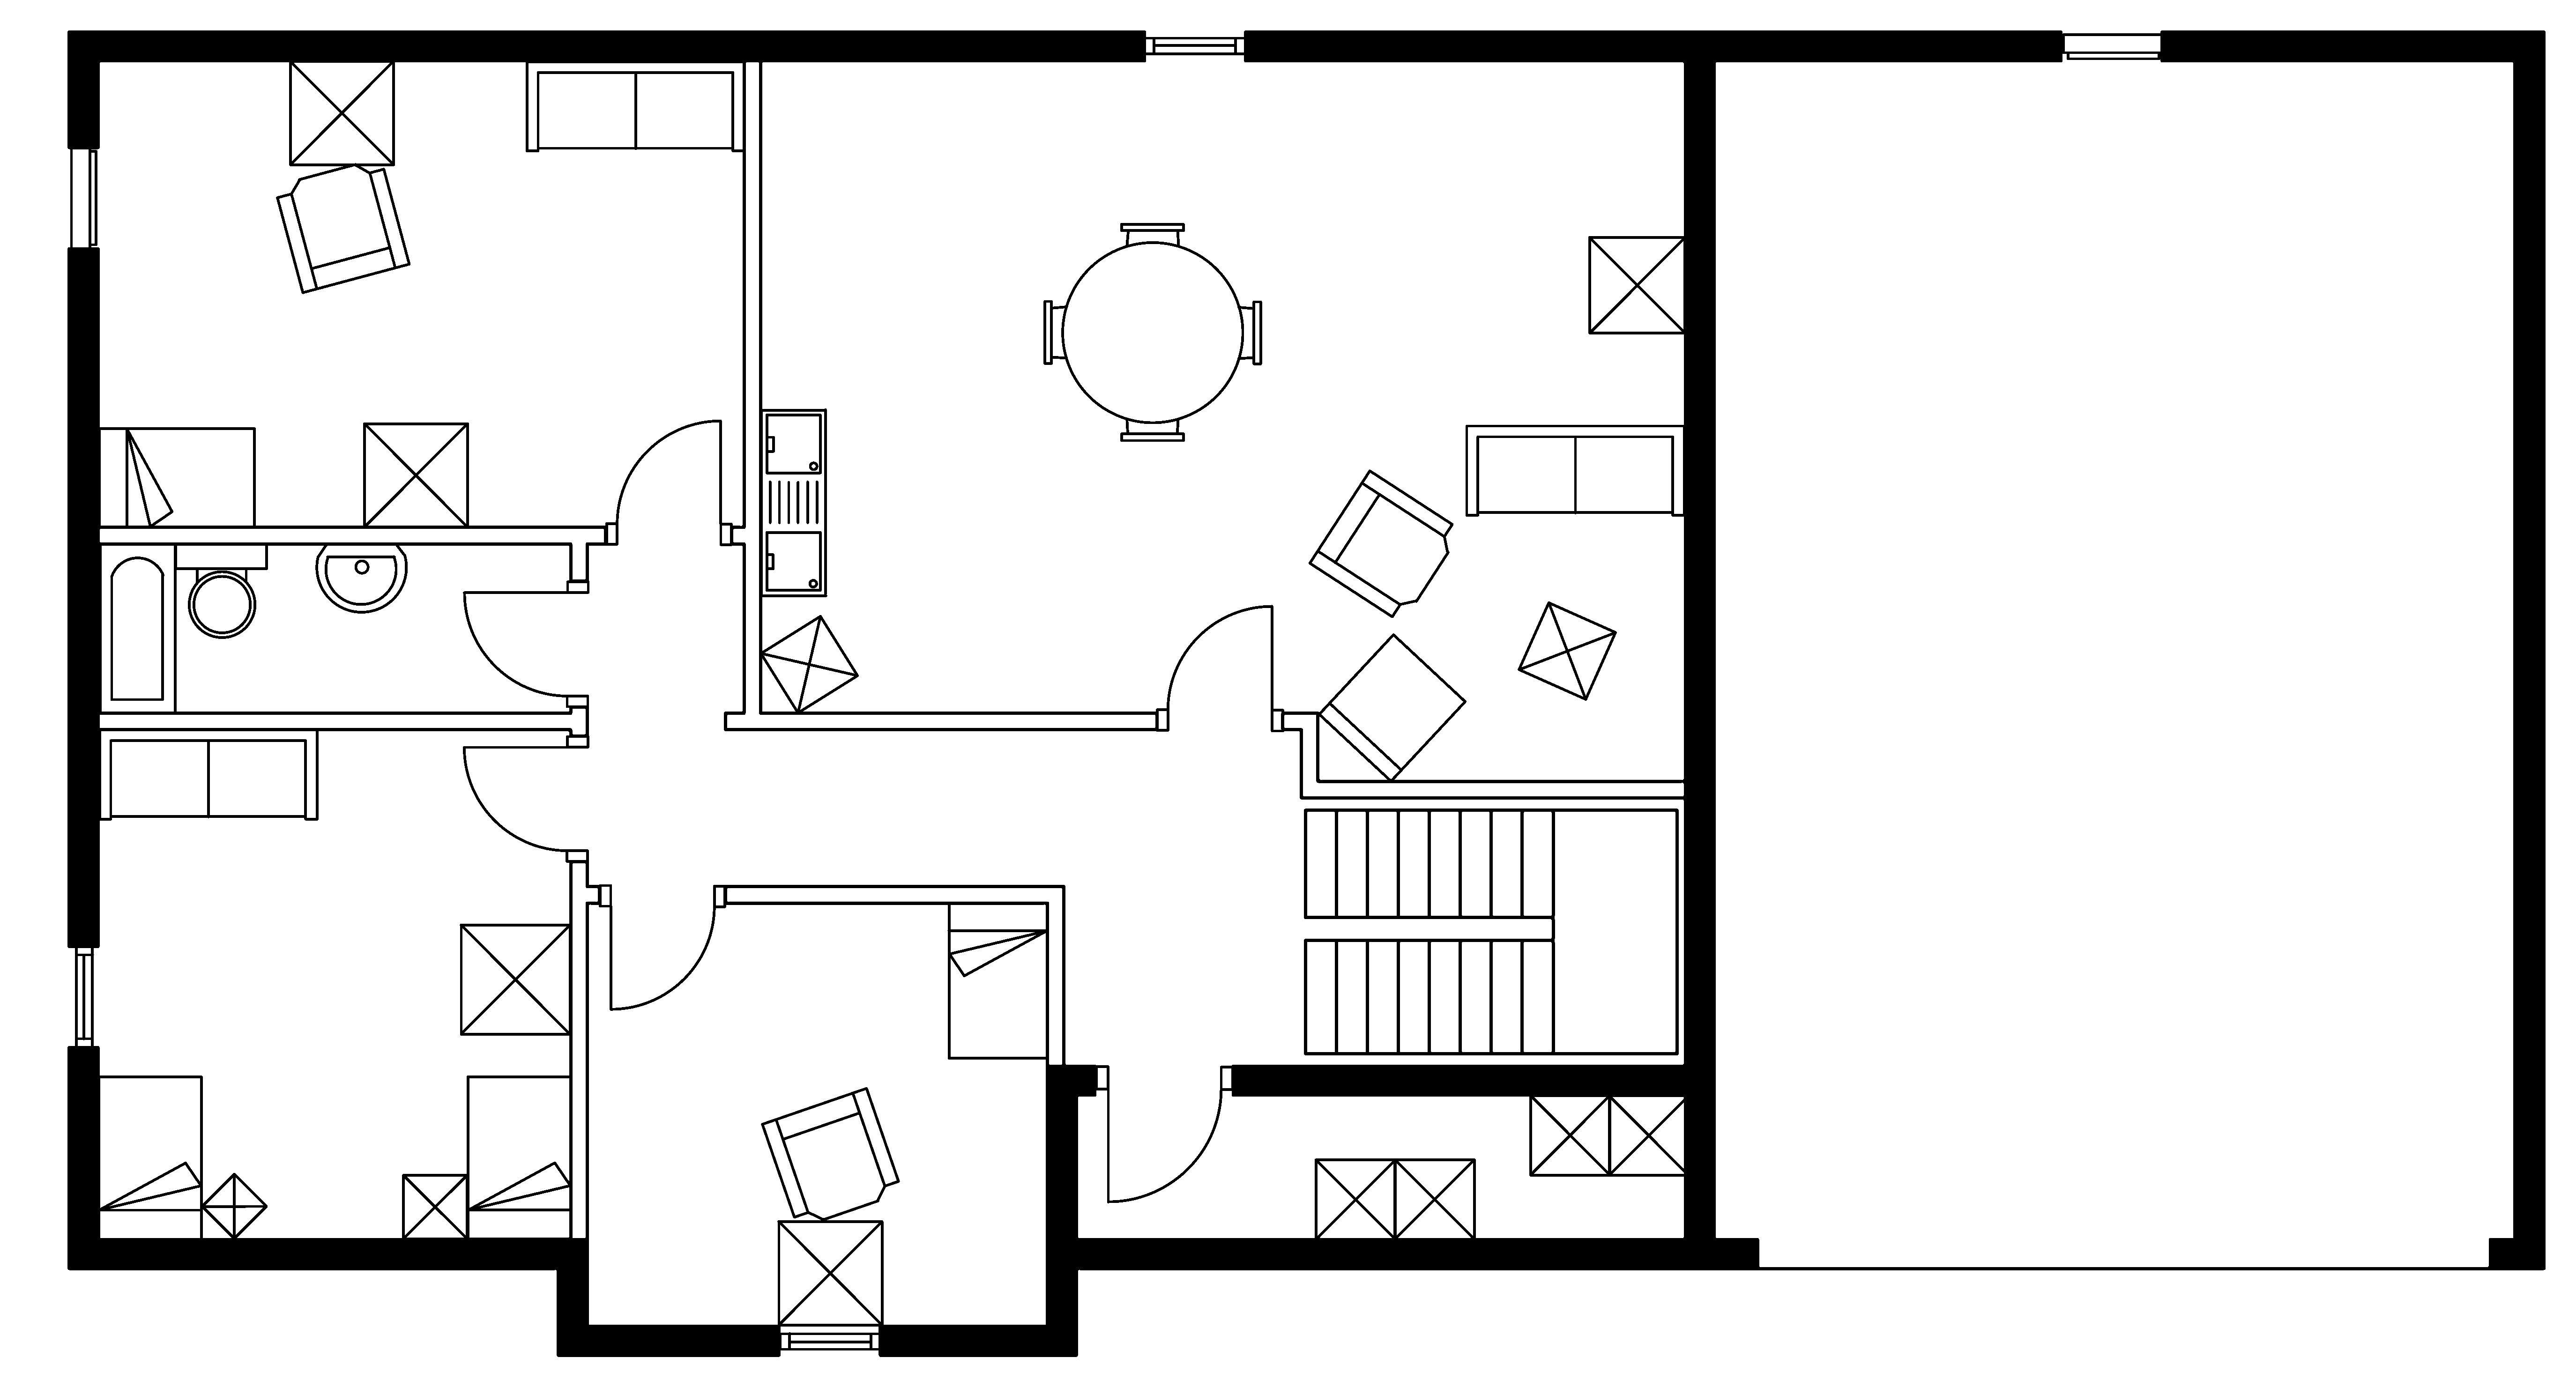armchair: (1307, 468, 1454, 618), (760, 1086, 900, 1221), (275, 162, 412, 294)
bed: (96, 1074, 203, 1240), (465, 1074, 572, 1240), (97, 425, 256, 530), (946, 900, 1049, 1059)
coffee_table: (458, 922, 572, 1035), (362, 422, 470, 530), (287, 58, 395, 166), (776, 1220, 883, 1327), (1517, 600, 1618, 702), (758, 613, 859, 714), (1587, 234, 1686, 335), (1527, 1093, 1613, 1177), (1392, 1156, 1476, 1240), (1607, 1093, 1691, 1177), (1314, 1156, 1397, 1240), (200, 1172, 268, 1240), (401, 1172, 470, 1240)
large_sink: (173, 541, 268, 639)
large_sofa: (1464, 424, 1686, 516), (97, 728, 319, 820), (524, 60, 746, 152)
round_table: (1042, 222, 1262, 442)
small_sink: (316, 541, 407, 613)
small_sofa: (1317, 632, 1467, 782)
tub: (97, 541, 178, 714)
twin_sink: (758, 407, 828, 598)
